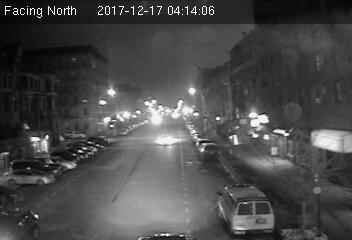police: (217, 183, 275, 234)
